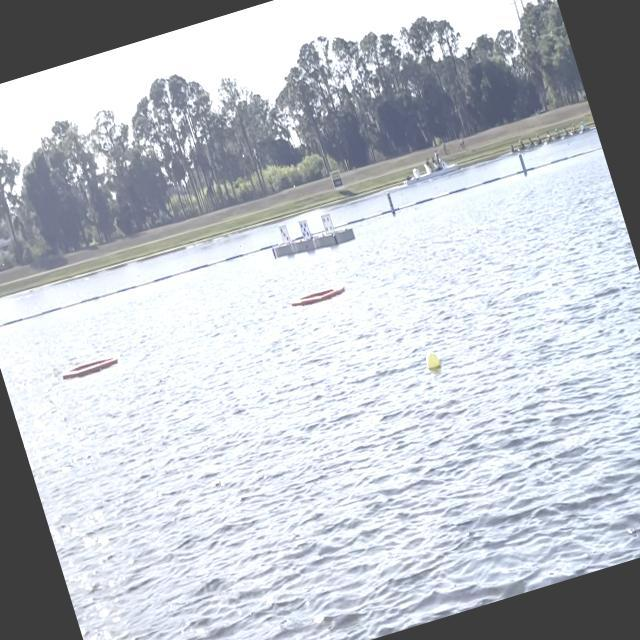buoy: (422, 347, 442, 371)
